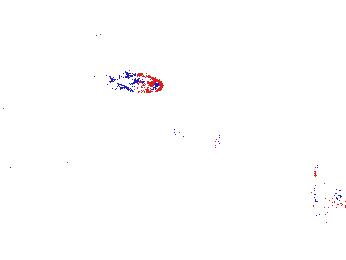red belly glassfish: (106, 70, 164, 95)
redtail glassfish: (173, 121, 223, 148), (309, 161, 333, 205)
